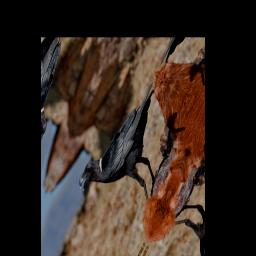Crow: (75, 61, 189, 236)
